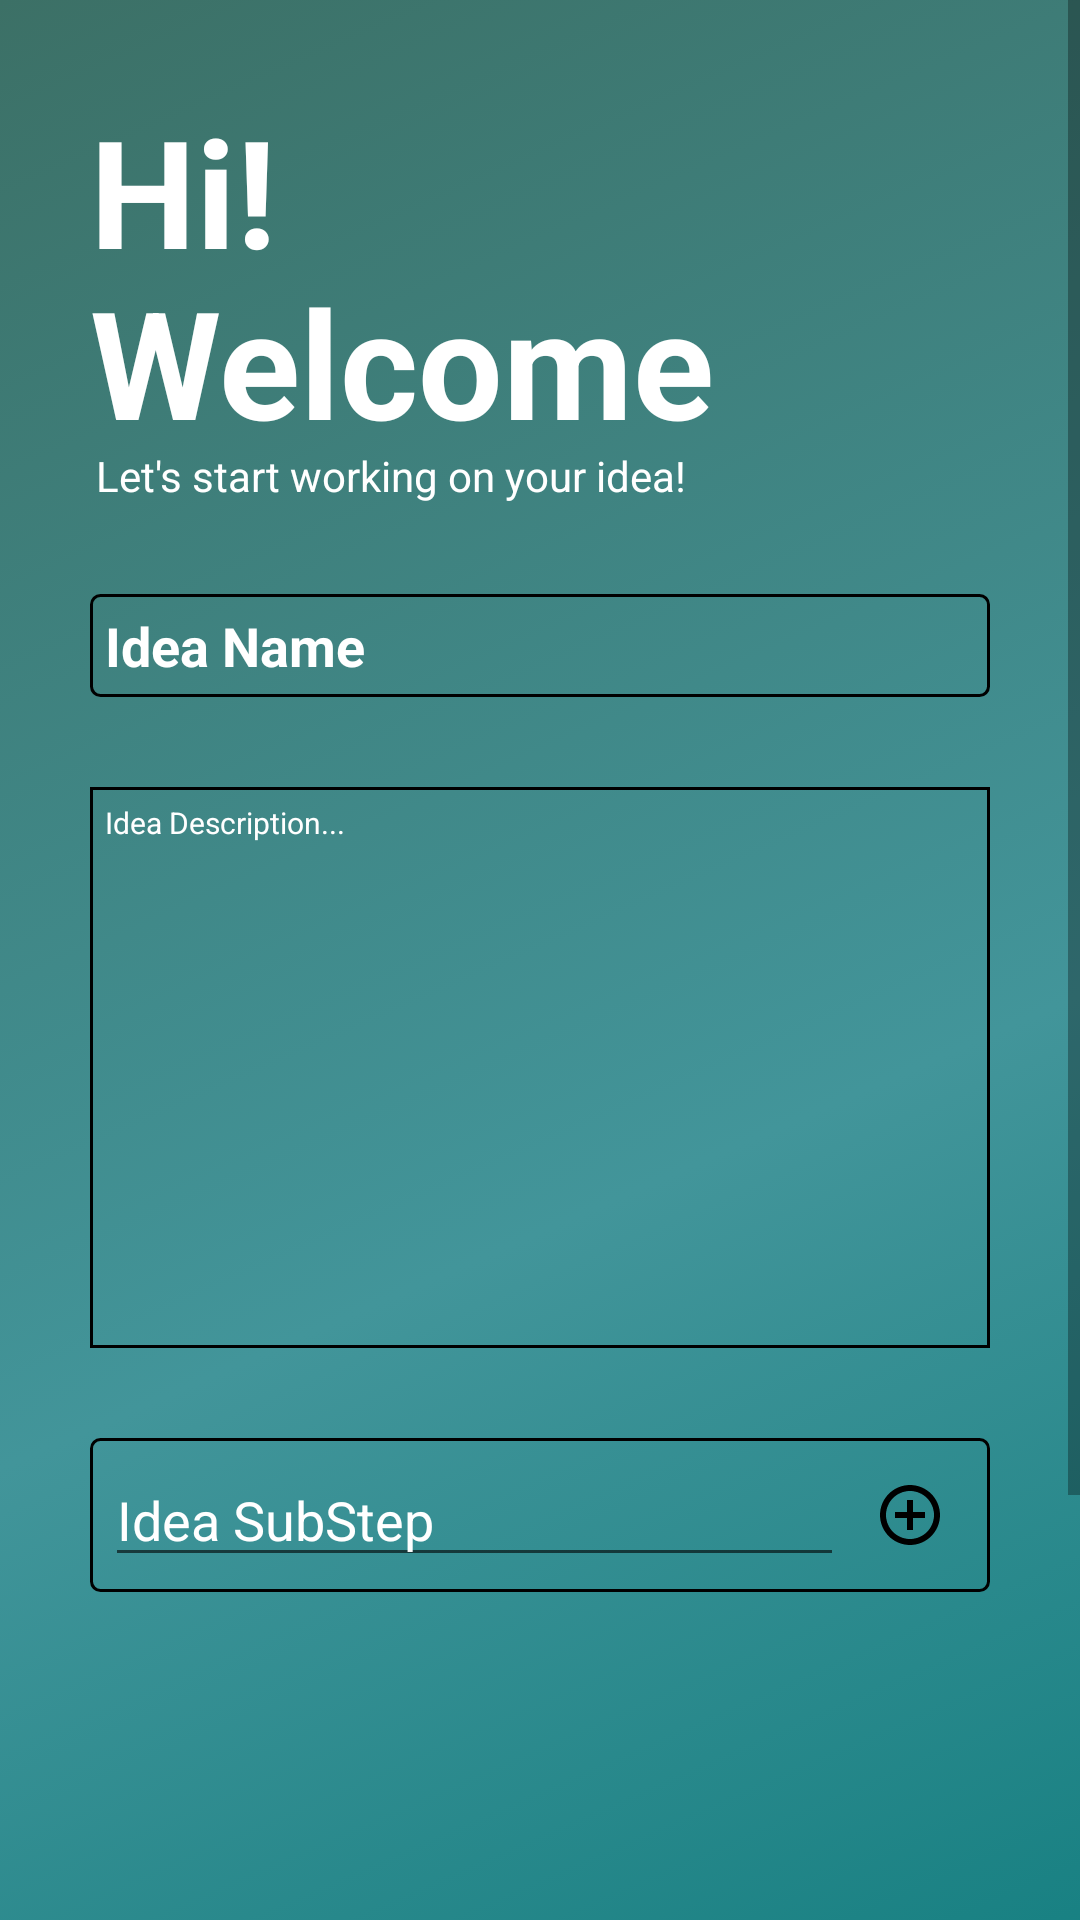

Locate icon controls on the screen. Image size 1080*1920, boxes as (x1, y1, x2, y2).
add circle: (880, 1485, 940, 1545)
